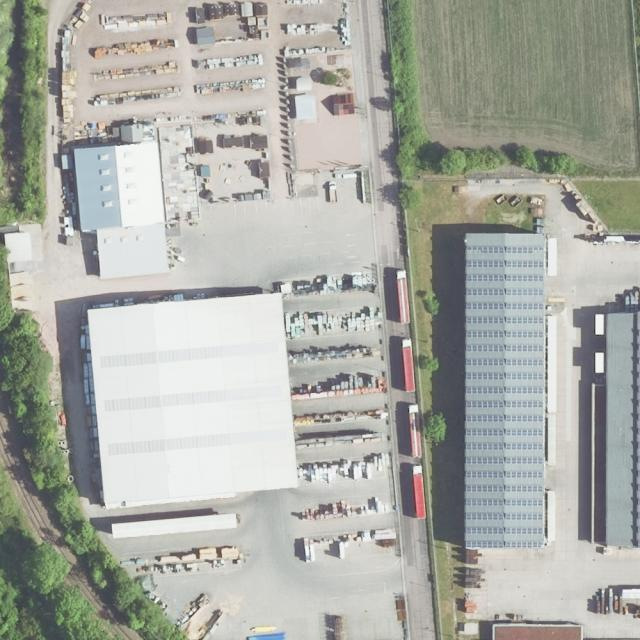PV: (464, 244, 544, 551)
